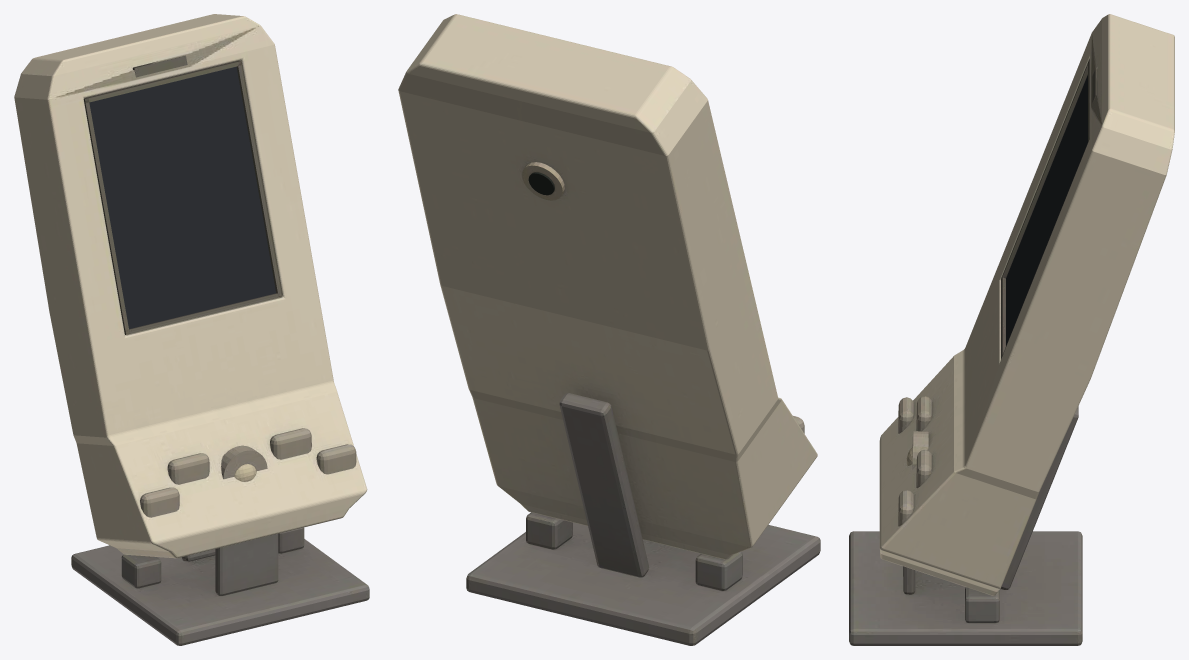
Rendered from phone-a.glb.
3 renders of one model, left to right at view 1: azimuth 30°, elevation 25°; view 2: azimuth 150°, elevation 25°; view 3: azimuth 270°, elevation 25°, orthographic. The views are drawn at different scales.
Parts seen in each view (by area): view 1: so-baked, screen-glass; view 2: so-baked; view 3: so-baked, screen-glass.
Boxes of the visible parts, bbox=[...] form: so-baked: bbox=[14, 14, 369, 645]; screen-glass: bbox=[89, 66, 276, 328]; so-baked: bbox=[398, 14, 820, 645]; so-baked: bbox=[849, 14, 1174, 645]; screen-glass: bbox=[1006, 75, 1087, 345].
Bounding box in the file's own units: 0.0605 × 0.1266 × 0.0698.
3 materials, 1 textured.
